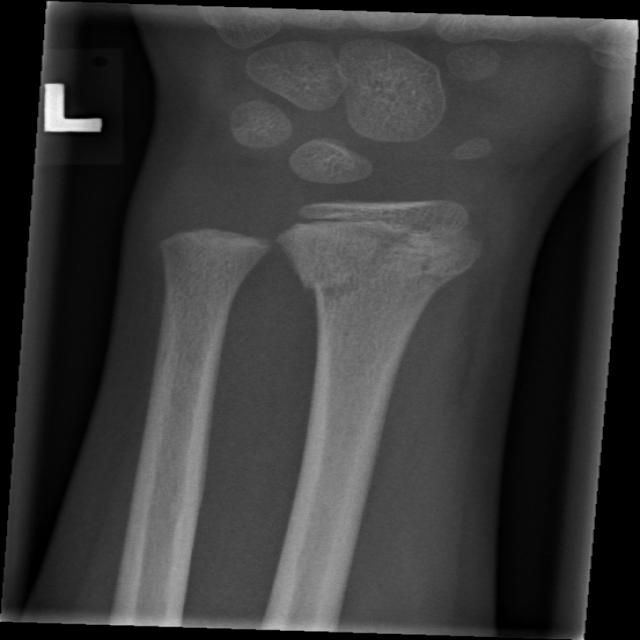radius fracture: (264, 248, 520, 336)
